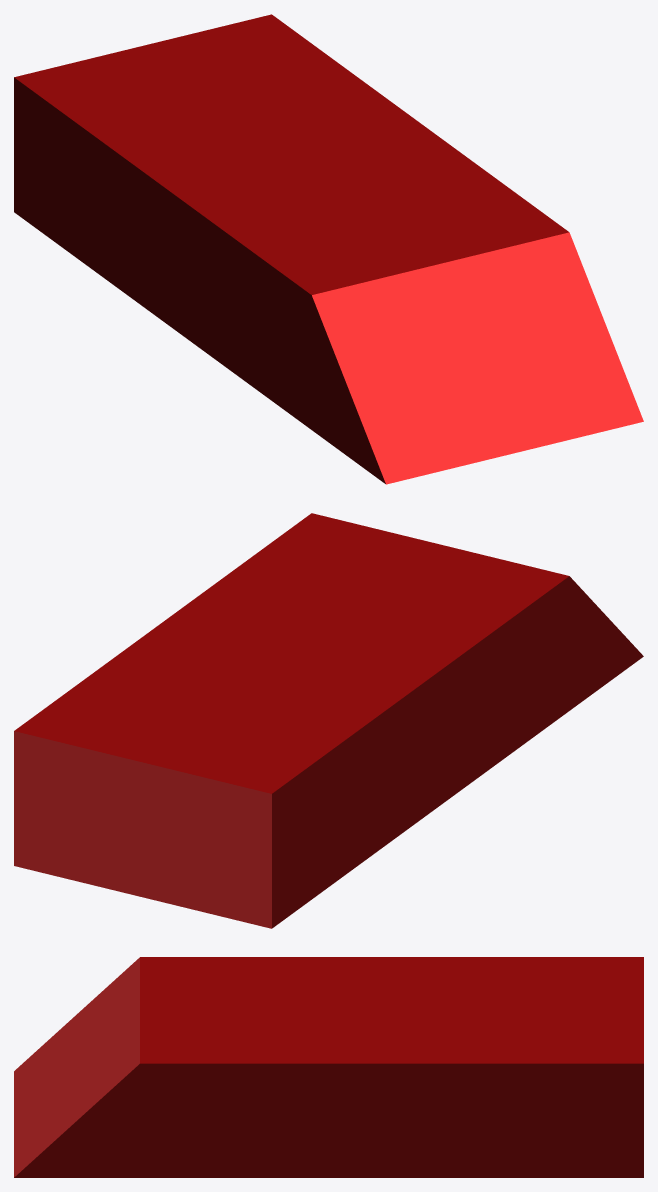
Rendered from 1mdrop2.dae.
3 renders of one model, top to bottom at view 1: azimuth 30°, elevation 25°; view 2: azimuth 150°, elevation 25°; view 3: azimuth 270°, elevation 25°, orthographic. The views are drawn at different scales.
Parts seen in each view (by area): view 1: SketchUp (×3); view 2: SketchUp (×3); view 3: SketchUp (×3).
Boxes of the visible parts, x1,y1,x2,y2 form: SketchUp (×3): (14,14,643,484); SketchUp (×3): (14,513,643,928); SketchUp (×3): (14,957,643,1177).
Bounding box in the file's own units: 78.74 × 197 × 39.37.
